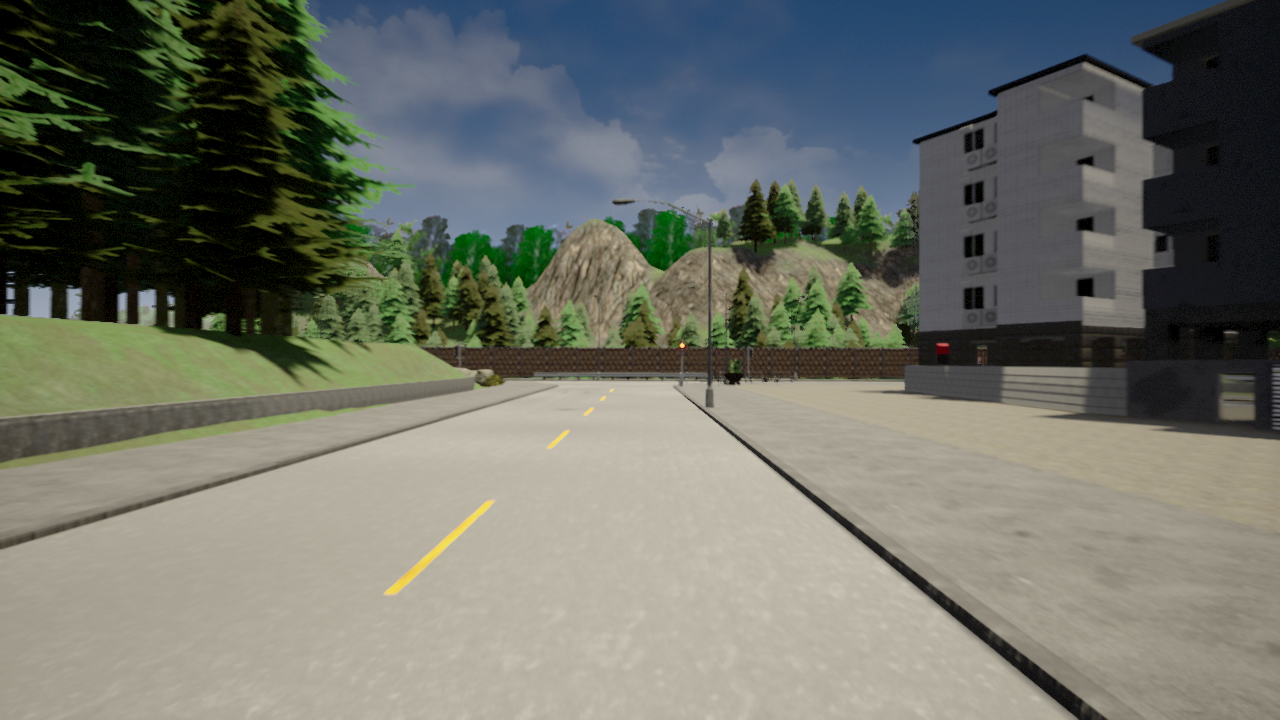red: (679, 341, 685, 356)
